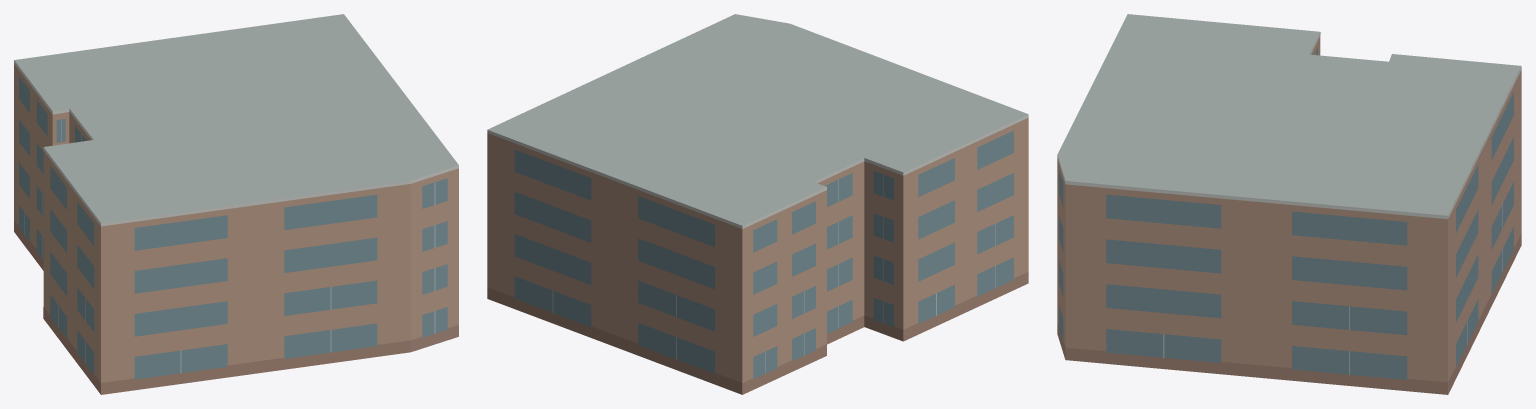
File: survey-upis-32489233.glb
3 renders of one model, left to right at view 1: azimuth 30°, elevation 25°; view 2: azimuth 150°, elevation 25°; view 3: azimuth 270°, elevation 25°, orthographic. The views are drawn at different scales.
Visible parts, largest first — view 1: survey-upis-32489233.tmp; view 2: survey-upis-32489233.tmp; view 3: survey-upis-32489233.tmp.
Part boxes in pixels (left/top/right/bottom): survey-upis-32489233.tmp: left=14, top=14, right=458, bottom=394; survey-upis-32489233.tmp: left=487, top=14, right=1028, bottom=394; survey-upis-32489233.tmp: left=1057, top=14, right=1521, bottom=394.
Size of the model in its own units: 30.45 by 12.6 by 29.61.
